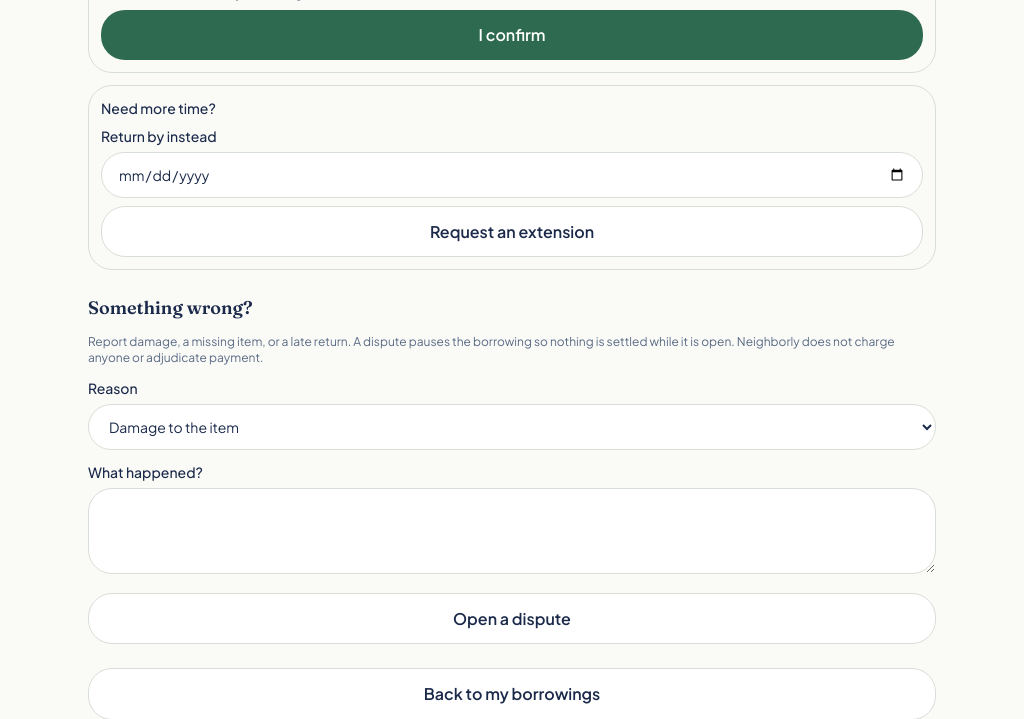
it: BorrowDetail › validates a dispute summary before sending it
(page scrolled)
What coordinates should you click on to do the following:
click the button "Open a dispute"
I would click on:
 (512, 619)
Its box is [88,593,936,644].
(page scrolled)
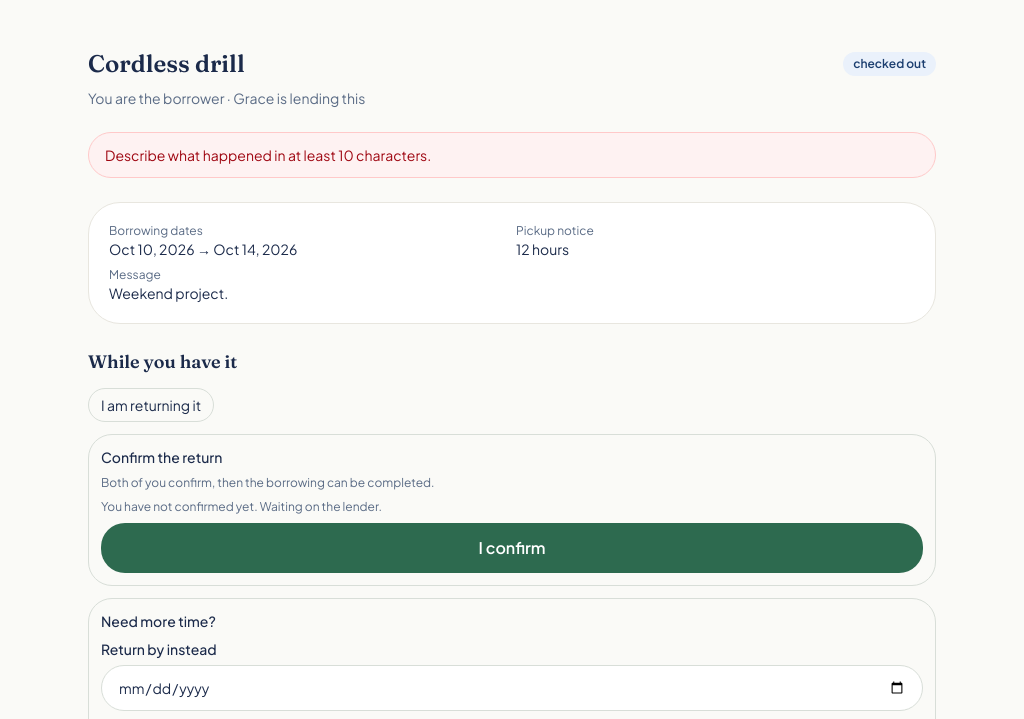
Check: the message "Describe what happened in at least 10 characters." is shown, box [88,132,936,178]
